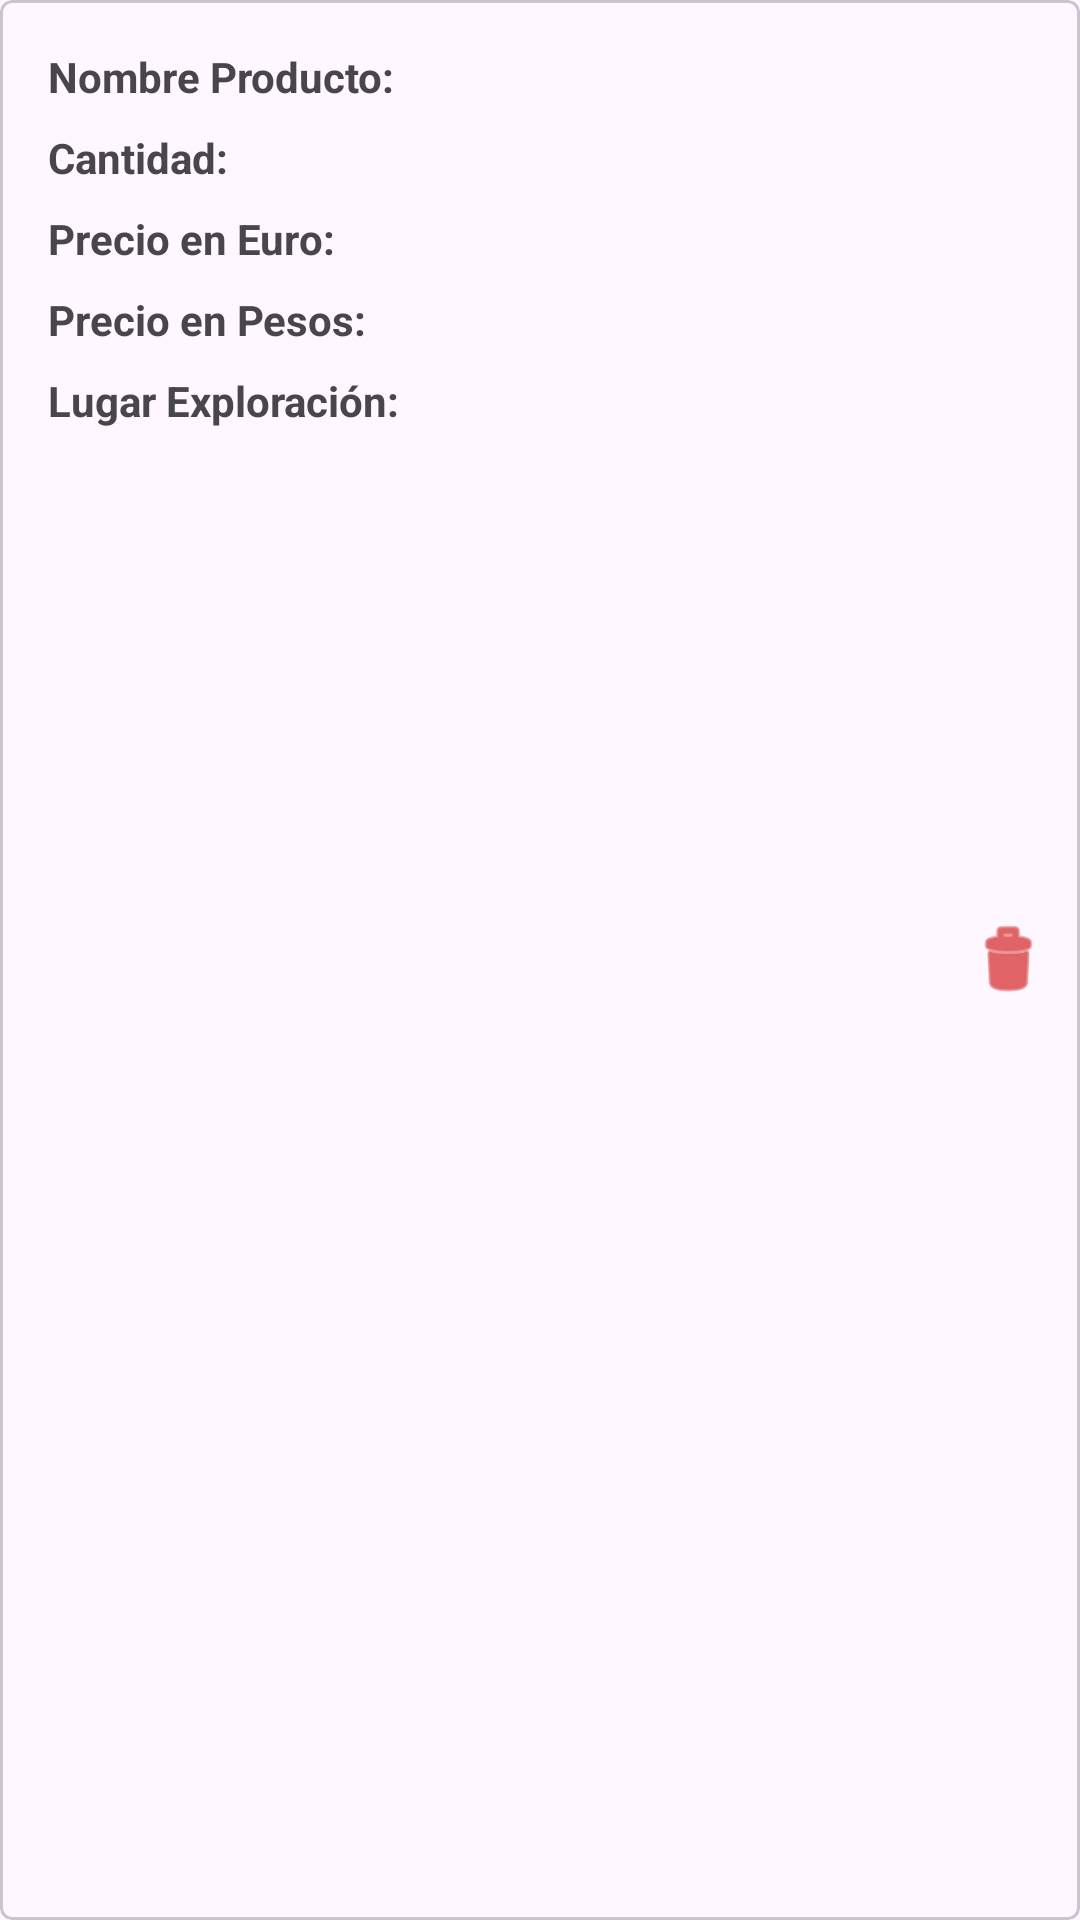

Point at icon controls on the screen. Image size 1080 x 1920, points as [x,y].
delete: [1008,959]
